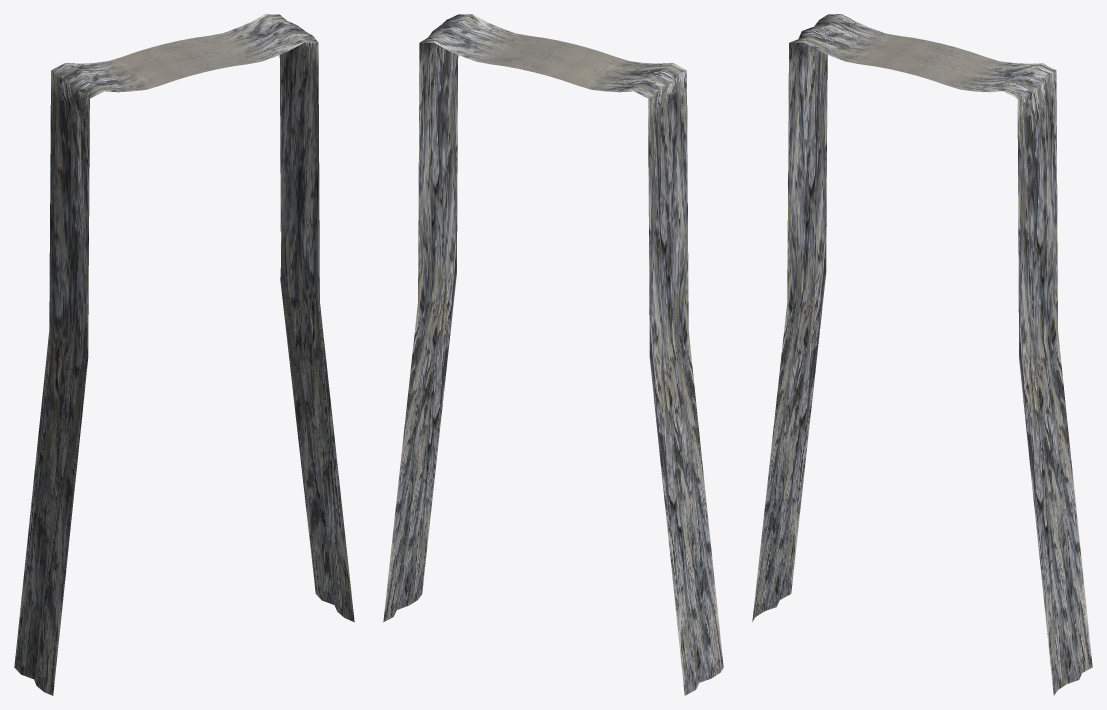
File: Platform_Middle.FBX
The picture shows the model from 3 angles, left to right: view 1: azimuth 30°, elevation 25°; view 2: azimuth 150°, elevation 25°; view 3: azimuth 330°, elevation 25°; orthographic projection.
Parts seen in each view (by area): view 1: Box01; view 2: Box01; view 3: Box01.
Boxes of the visible parts, x1,y1,x2,y2 form: Box01: (14, 14, 354, 695); Box01: (383, 14, 723, 695); Box01: (752, 14, 1092, 695).
Size of the model in its own units: 1367 by 2520 by 300.
Materials: 2 (2 with a texture image).
